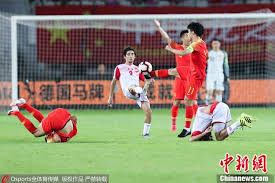fall: (181, 98, 257, 143)
